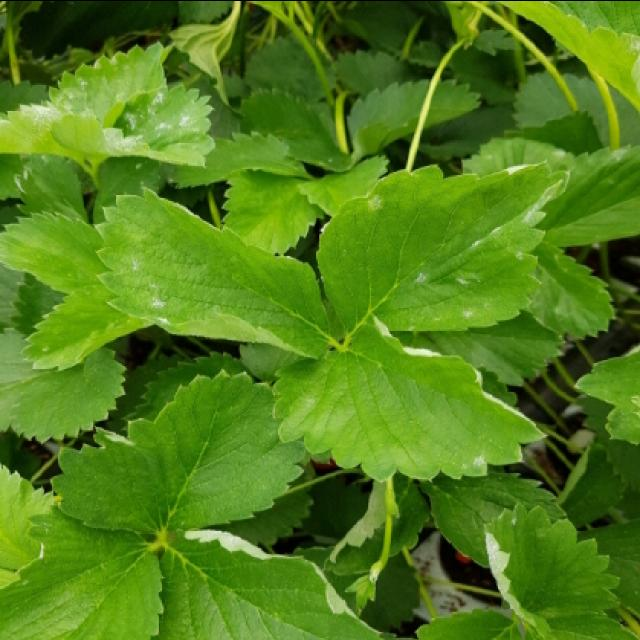Powdery Mildew Leaf: (270, 313, 550, 483), (316, 158, 570, 339), (93, 182, 331, 358), (0, 36, 216, 175), (150, 529, 414, 638), (483, 501, 623, 622), (536, 144, 638, 248)
